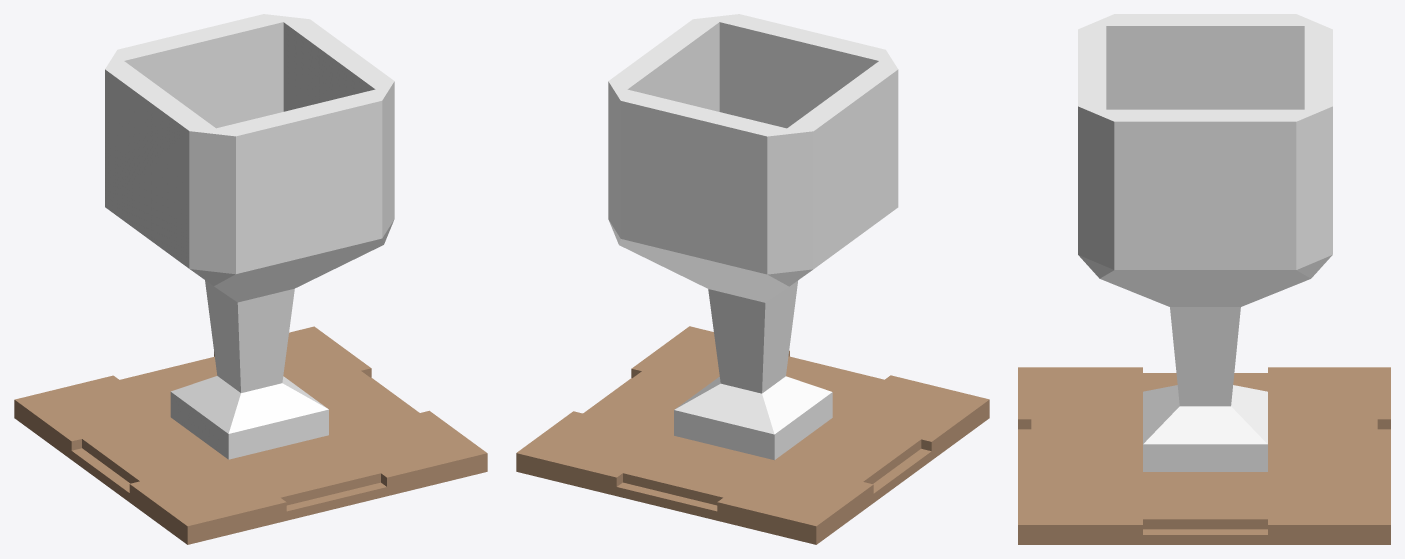
Rendered from Shrine03.fbx.
3 renders of one model, left to right at view 1: azimuth 30°, elevation 25°; view 2: azimuth 150°, elevation 25°; view 3: azimuth 270°, elevation 25°, orthographic. The views are drawn at different scales.
Visible parts, largest first — view 1: Shrine03; view 2: Shrine03; view 3: Shrine03.
Boxes of the visible parts, left/top/right/bottom form: Shrine03: left=14, top=14, right=487, bottom=544; Shrine03: left=516, top=14, right=989, bottom=544; Shrine03: left=1018, top=14, right=1390, bottom=544.
Bounding box in the file's own units: 0.7935 × 0.9348 × 0.7935.
